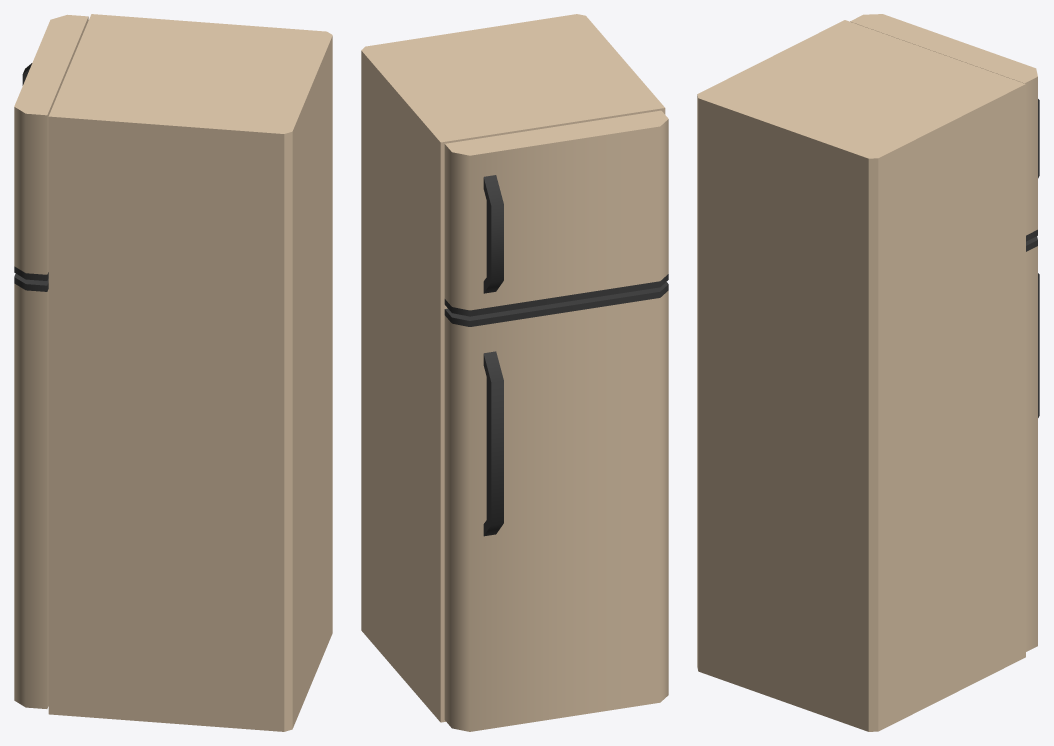
3 renders of one model, left to right at view 1: azimuth 30°, elevation 25°; view 2: azimuth 150°, elevation 25°; view 3: azimuth 270°, elevation 25°, orthographic. The views are drawn at different scales.
Visible parts, largest first — view 1: Cube059_Material009_0, Cube060_Material009_0, Cube061_Material009_0; view 2: Cube060_Material009_0, Cube059_Material009_0, Cube061_Material009_0, Cube060_Material007_0, Cube061_Material007_0; view 3: Cube059_Material009_0, Cube061_Material009_0, Cube060_Material009_0.
Boxes of the visible parts, x1,y1,x2,y2 form: Cube059_Material009_0: (48,14,332,731); Cube060_Material009_0: (14,283,48,708); Cube061_Material009_0: (14,14,88,274); Cube060_Material009_0: (444,290,668,731); Cube059_Material009_0: (361,14,665,722); Cube061_Material009_0: (444,110,668,310); Cube060_Material007_0: (444,282,668,536); Cube061_Material007_0: (444,175,668,316); Cube059_Material009_0: (697,20,1025,731); Cube061_Material009_0: (850,14,1037,235); Cube060_Material009_0: (1026,246,1037,651).
Bounding box in the file's own units: 0.9779 × 1.79 × 0.9706.
